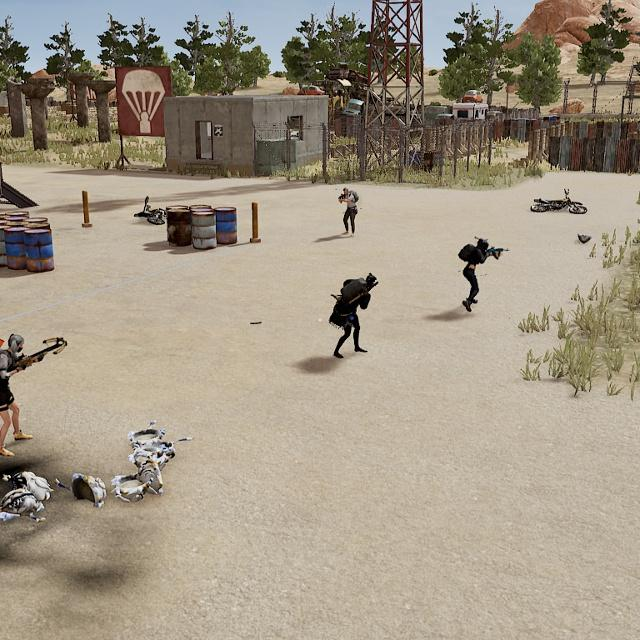head: (6, 332, 26, 359), (362, 269, 378, 290), (475, 236, 491, 254), (342, 186, 349, 196)
people: (0, 329, 43, 463), (325, 265, 383, 362), (448, 233, 505, 315), (333, 183, 367, 242)
